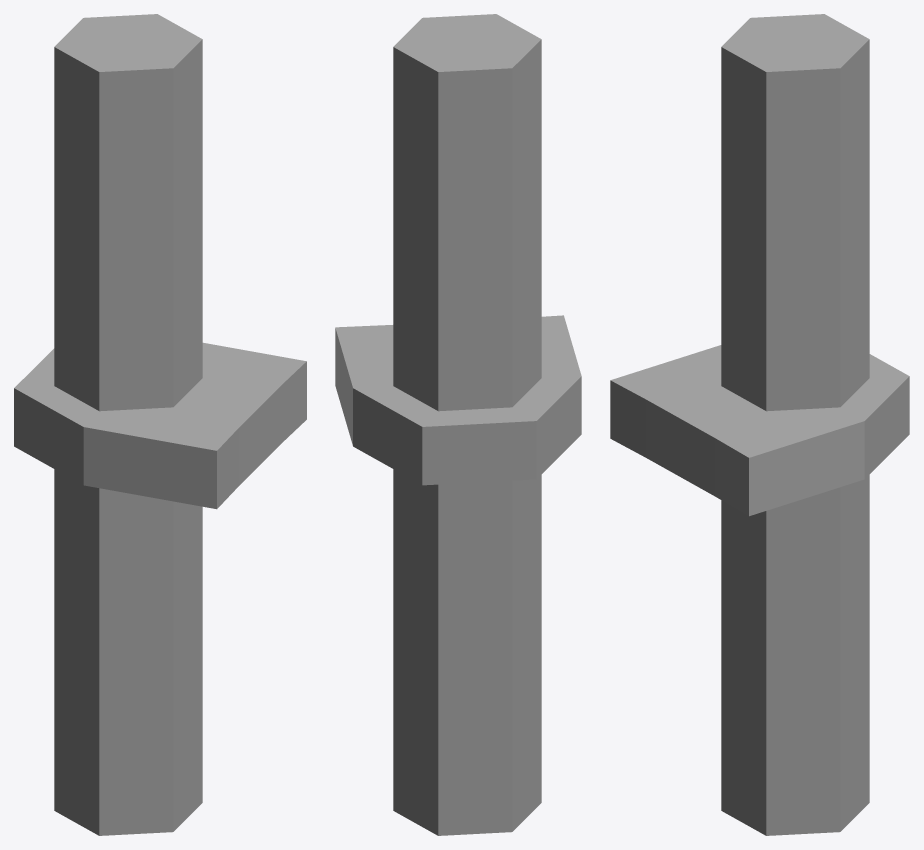
The model's file is Building Pipe 1.fbx.
The picture shows the model from 3 angles, left to right: view 1: azimuth 30°, elevation 25°; view 2: azimuth 150°, elevation 25°; view 3: azimuth 270°, elevation 25°; orthographic projection.
Visible parts, largest first — view 1: Building Pipe 1; view 2: Building Pipe 1; view 3: Building Pipe 1.
Boxes of the visible parts, box(x1,y1,x2,y2) form: Building Pipe 1: box(14, 14, 306, 835); Building Pipe 1: box(335, 14, 581, 835); Building Pipe 1: box(610, 14, 909, 835).
Bounding box in the file's own units: 53.82 × 56.48 × 159.
